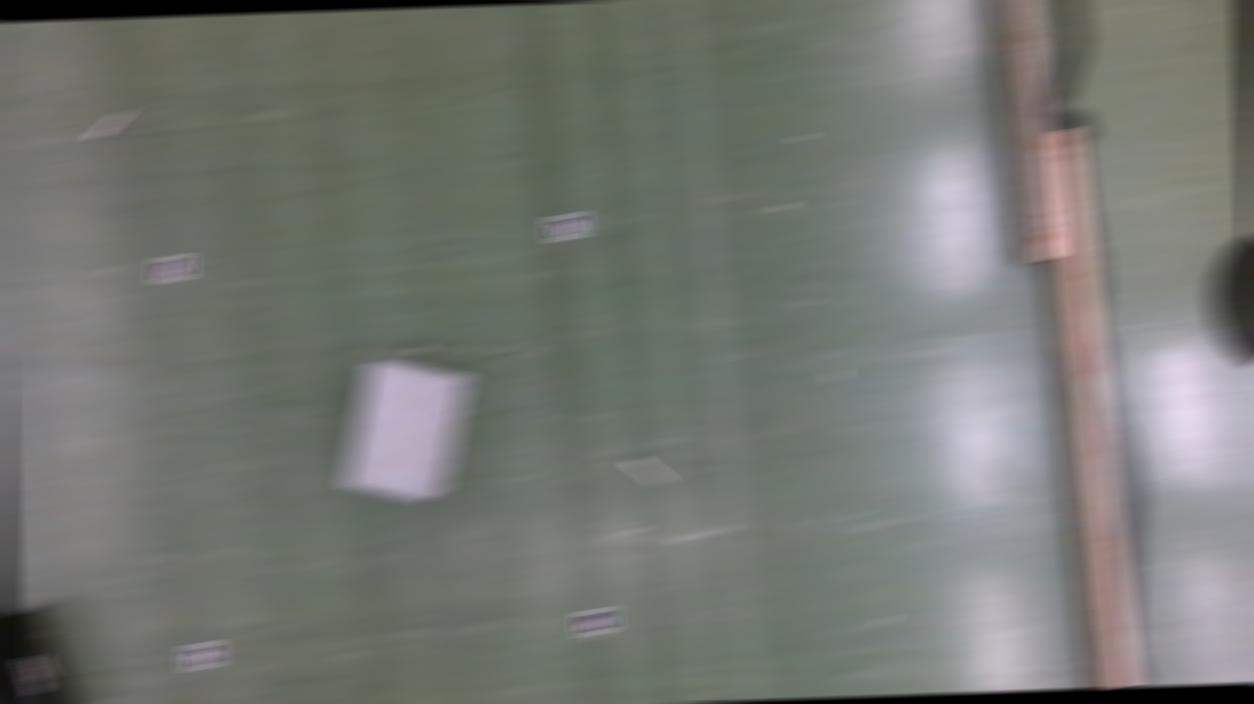probes: (628, 457, 670, 487), (91, 110, 132, 140)
rako: (337, 358, 474, 506), (3, 606, 83, 704)
